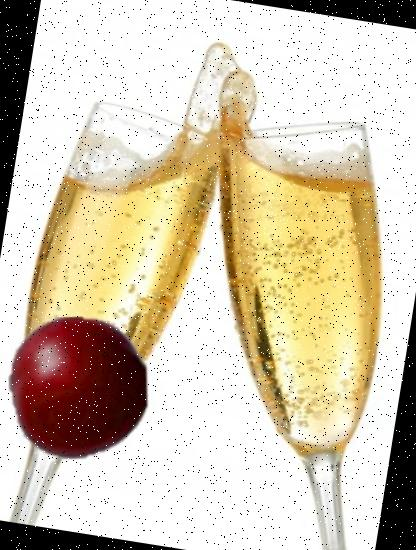Cherry: (0, 307, 160, 469)
